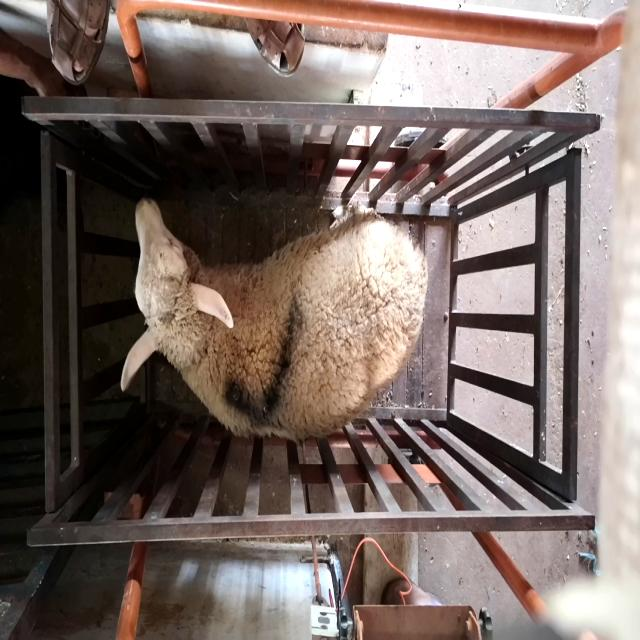sheep: (120, 196, 429, 439)
